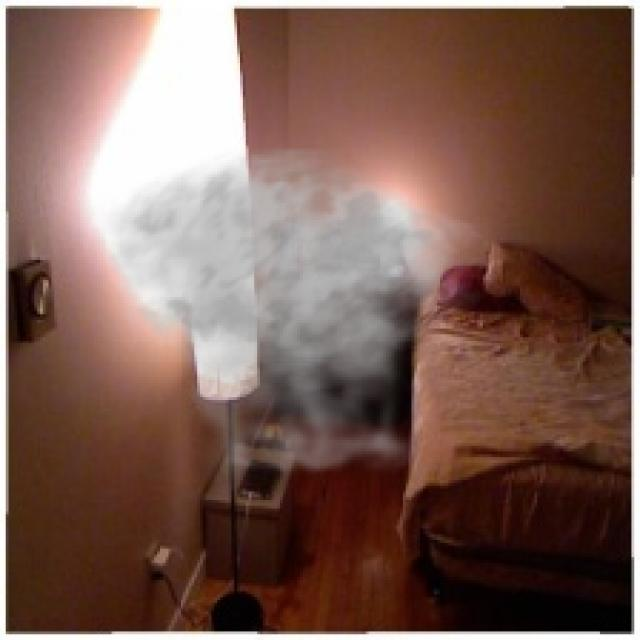smoke: (94, 145, 489, 506)
